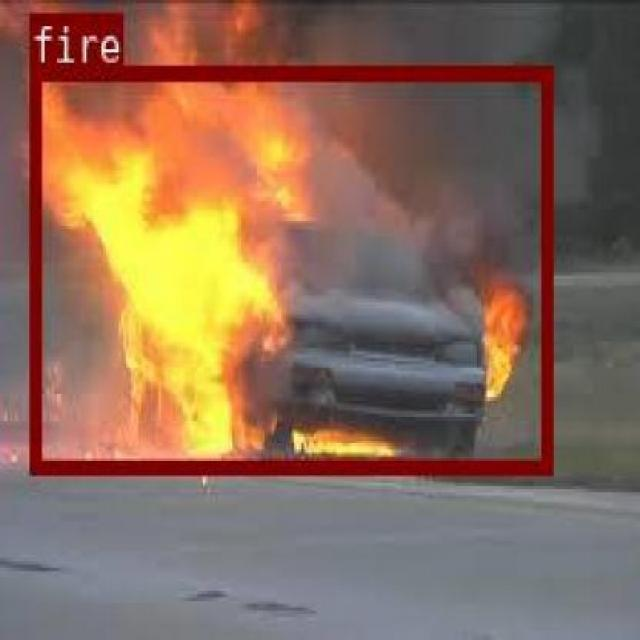Fire: (28, 65, 550, 472)
